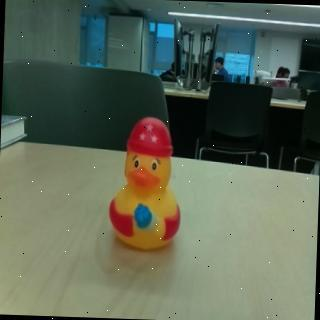duck_specialty: (107, 114, 187, 253)
